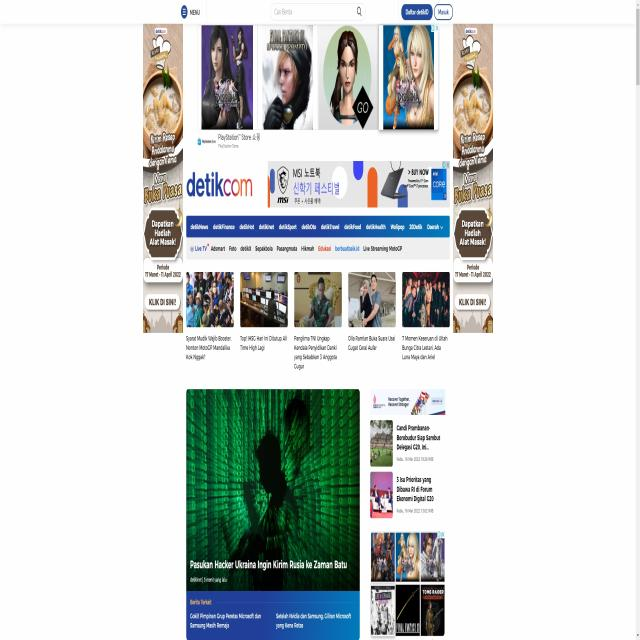side-panel: (368, 383, 446, 640)
tab-bar: (186, 216, 448, 236)
